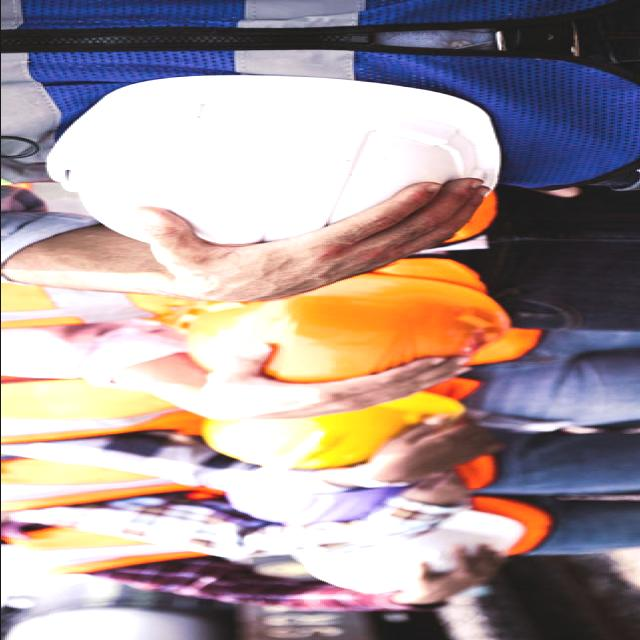Hard Hat: (41, 68, 506, 256), (173, 272, 508, 382), (283, 511, 537, 597), (177, 392, 470, 466), (212, 474, 422, 528)
Reflective Vest: (0, 178, 530, 350), (0, 332, 509, 446), (0, 498, 558, 580), (0, 445, 502, 497)
